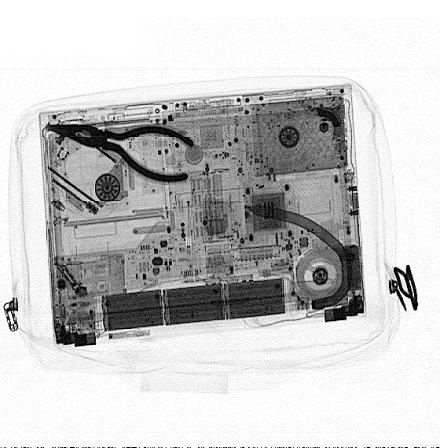Pliers: (44, 122, 196, 186)
